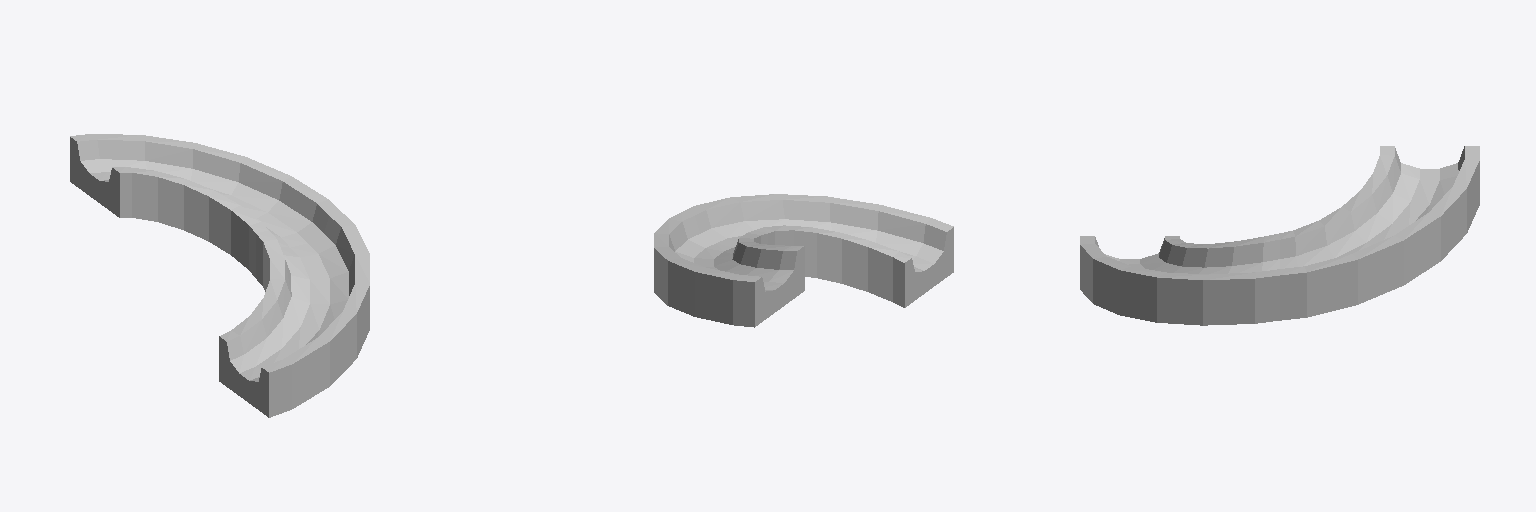
Rendered from helix-half-left.obj.
3 renders of one model, left to right at view 1: azimuth 30°, elevation 25°; view 2: azimuth 150°, elevation 25°; view 3: azimuth 270°, elevation 25°, orthographic.
Parts seen in each view (by area): view 1: helix-half-left; view 2: helix-half-left; view 3: helix-half-left.
Boxes of the visible parts, x1,y1,x2,y2 form: helix-half-left: [70, 134, 369, 417]; helix-half-left: [654, 194, 953, 327]; helix-half-left: [1080, 146, 1479, 325].
Size of the model in its own units: 2 by 1.5 by 4.01.